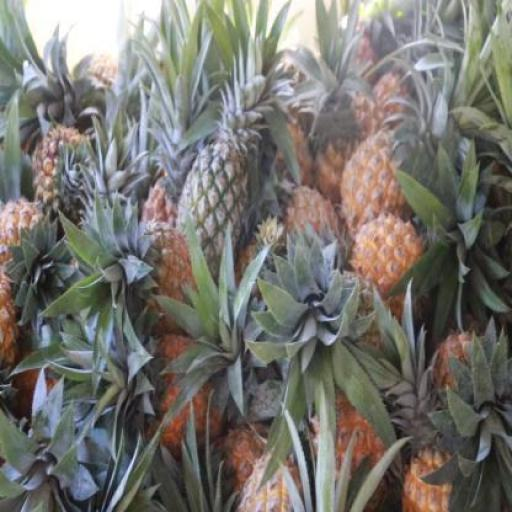Pineapple - v8 v1: (339, 139, 411, 241), (351, 219, 424, 308)
